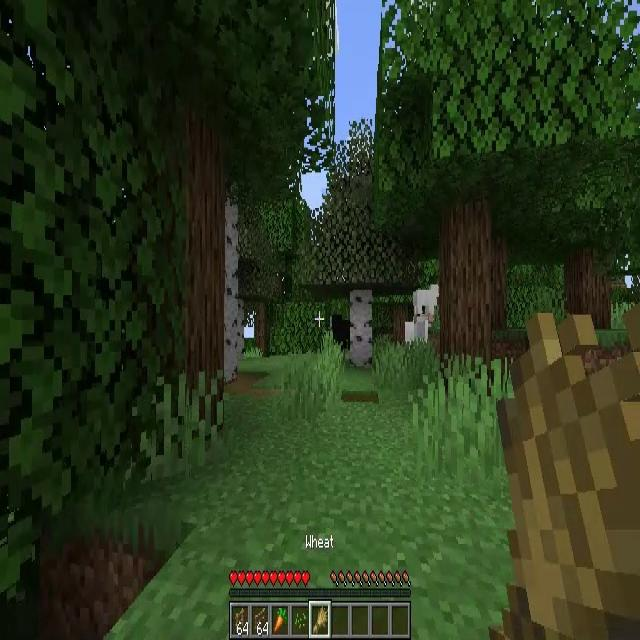sheep: (413, 283, 439, 321), (414, 314, 428, 346), (404, 319, 418, 349)
